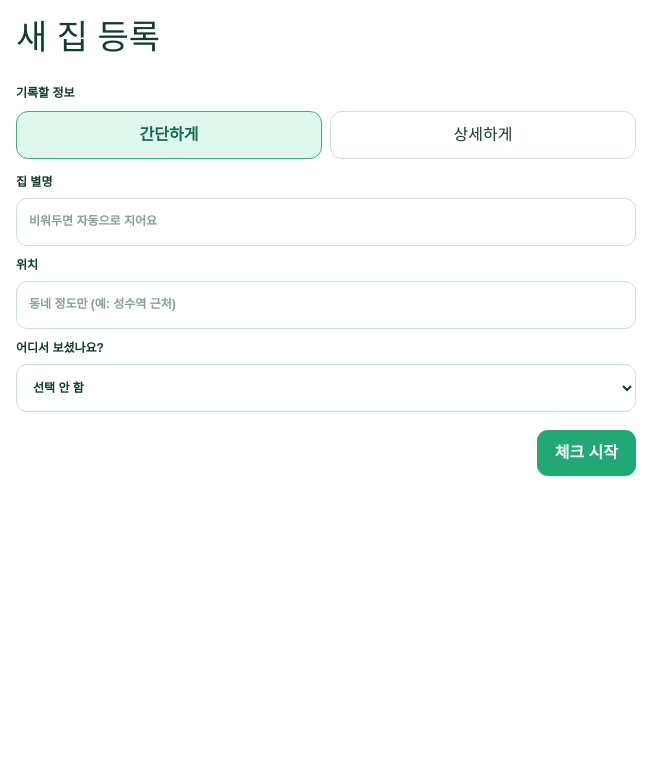
Scenario: 집 등록 › 음수와 과도한 금액을 막는다
Click the radio button labelled "상세하게" at (483, 135), box [330, 111, 636, 159]
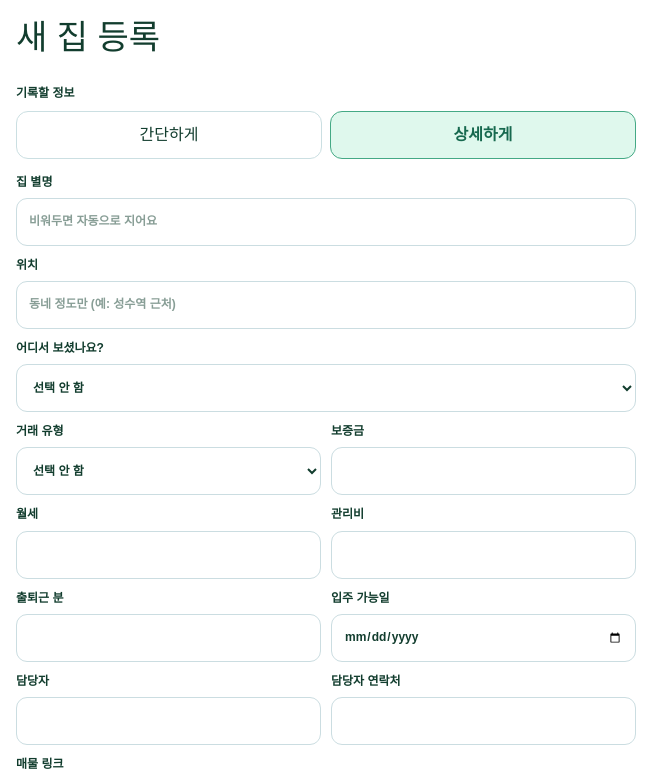
Type "-1" into the number field labelled "보증금" at (484, 471), box [331, 447, 636, 495]
(page scrolled)
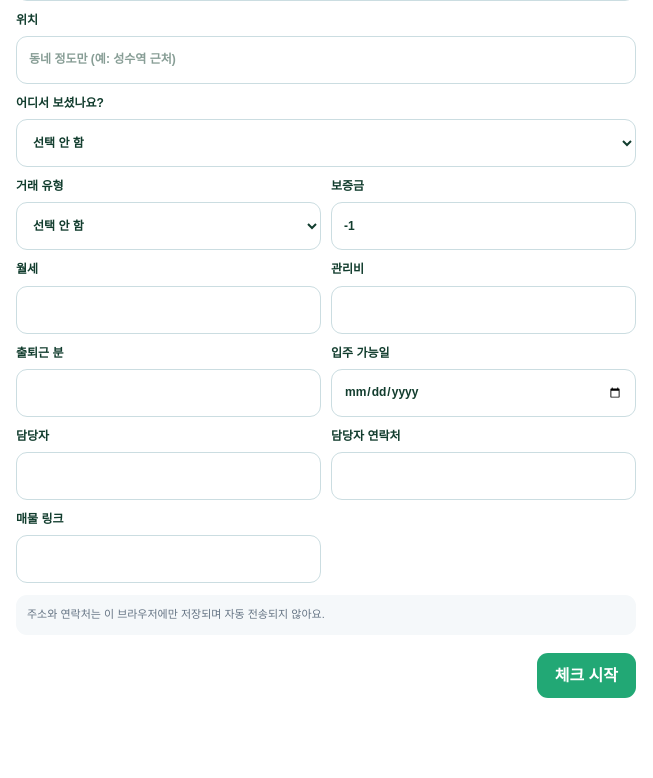
Click the button "체크 시작" at (586, 676), box [537, 653, 636, 698]
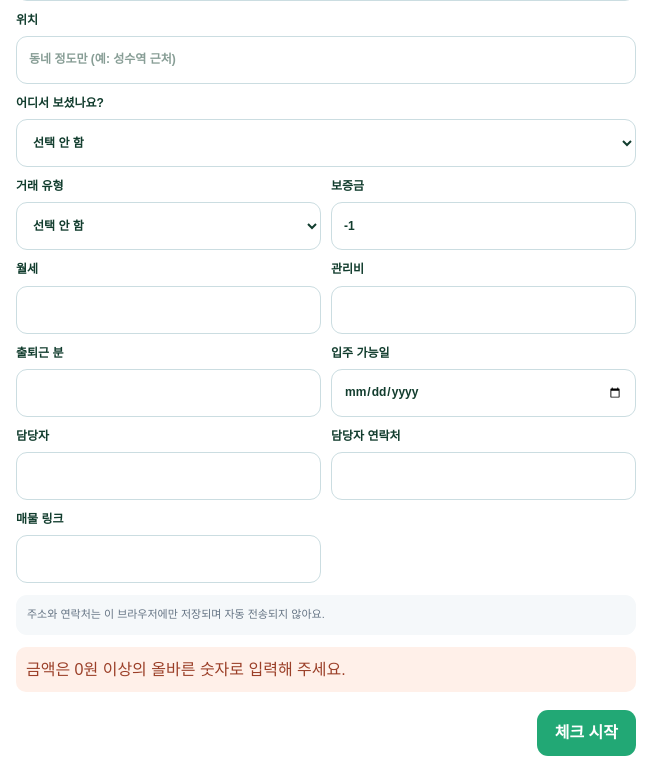
Result: the message shows "금액" at [16, 647, 636, 692]
